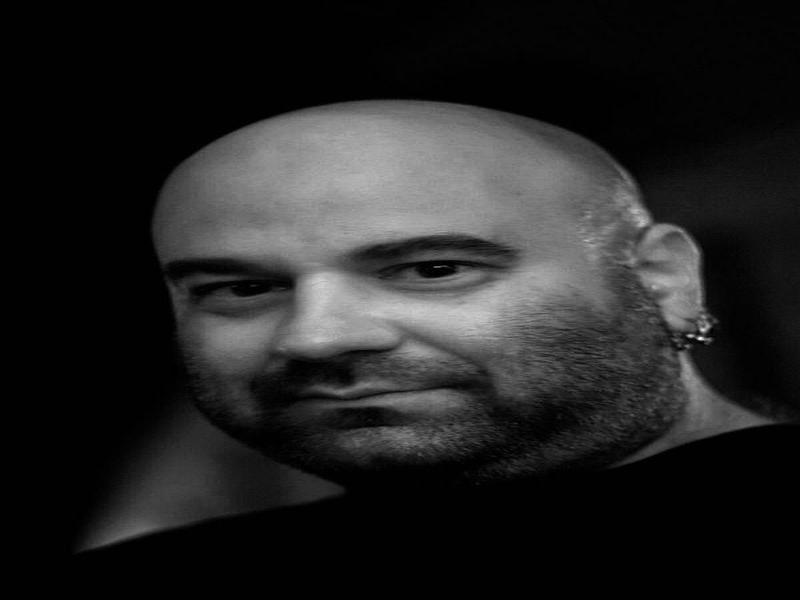person: (122, 88, 774, 600)
